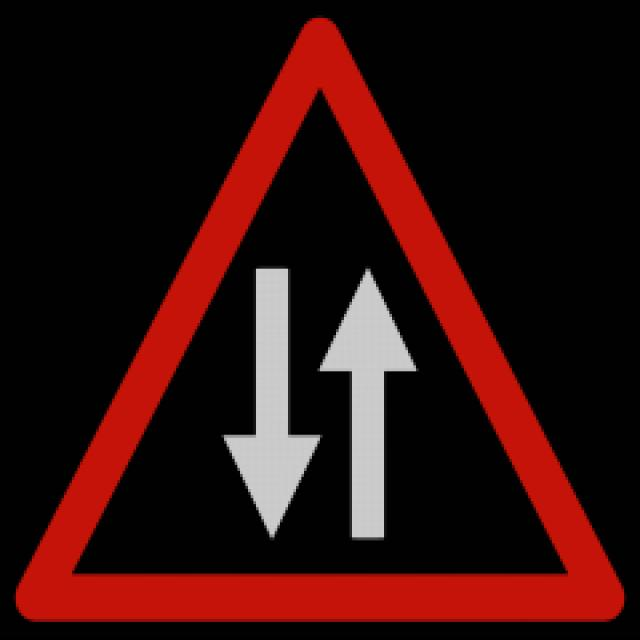danger: (5, 12, 640, 640)
